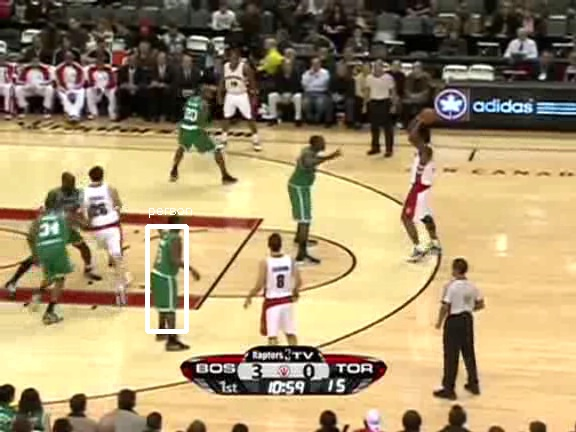person: (151, 232, 185, 313), (150, 232, 184, 313), (152, 232, 186, 313), (151, 231, 185, 312), (151, 233, 185, 314)
target_negative: (74, 269, 404, 346), (160, 349, 550, 409), (509, 320, 568, 431), (448, 184, 498, 219), (540, 398, 563, 415), (94, 402, 96, 415)
